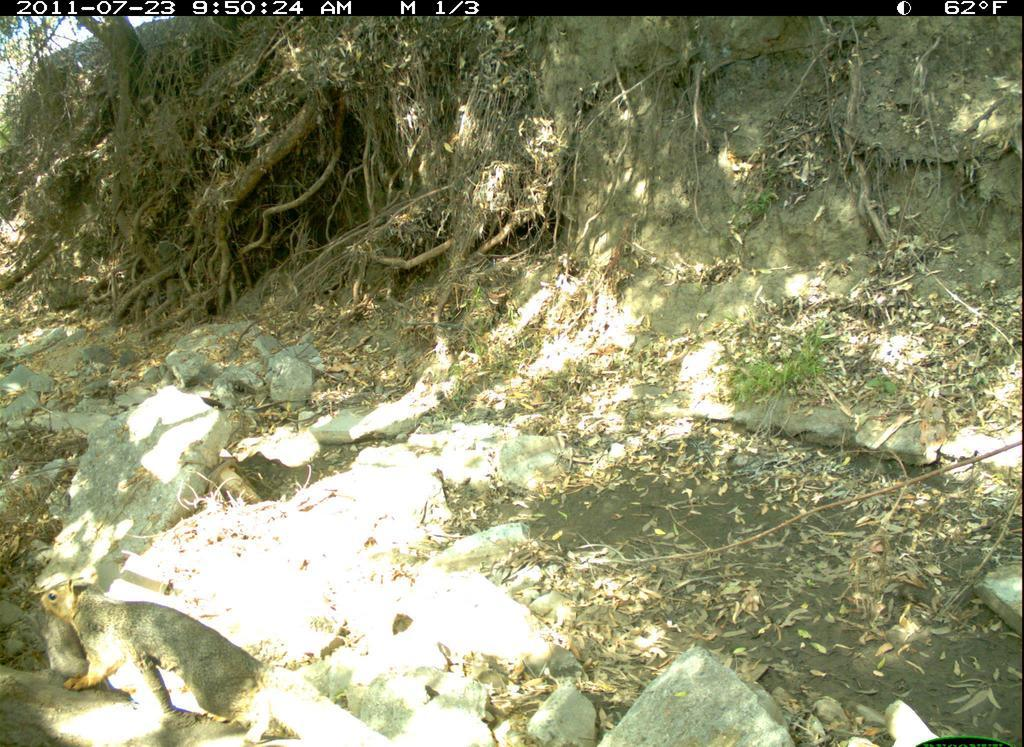squirrel: (35, 575, 397, 747)
